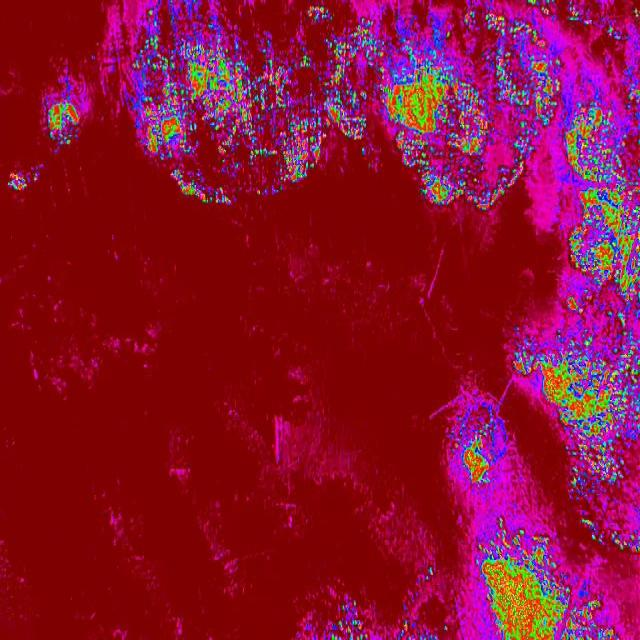fire: (390, 0, 640, 208), (106, 0, 332, 214), (568, 207, 640, 552), (472, 525, 570, 640), (331, 0, 390, 142), (441, 402, 516, 497), (512, 320, 568, 430), (40, 78, 90, 156), (570, 594, 624, 640), (328, 599, 370, 640), (9, 165, 44, 203)
